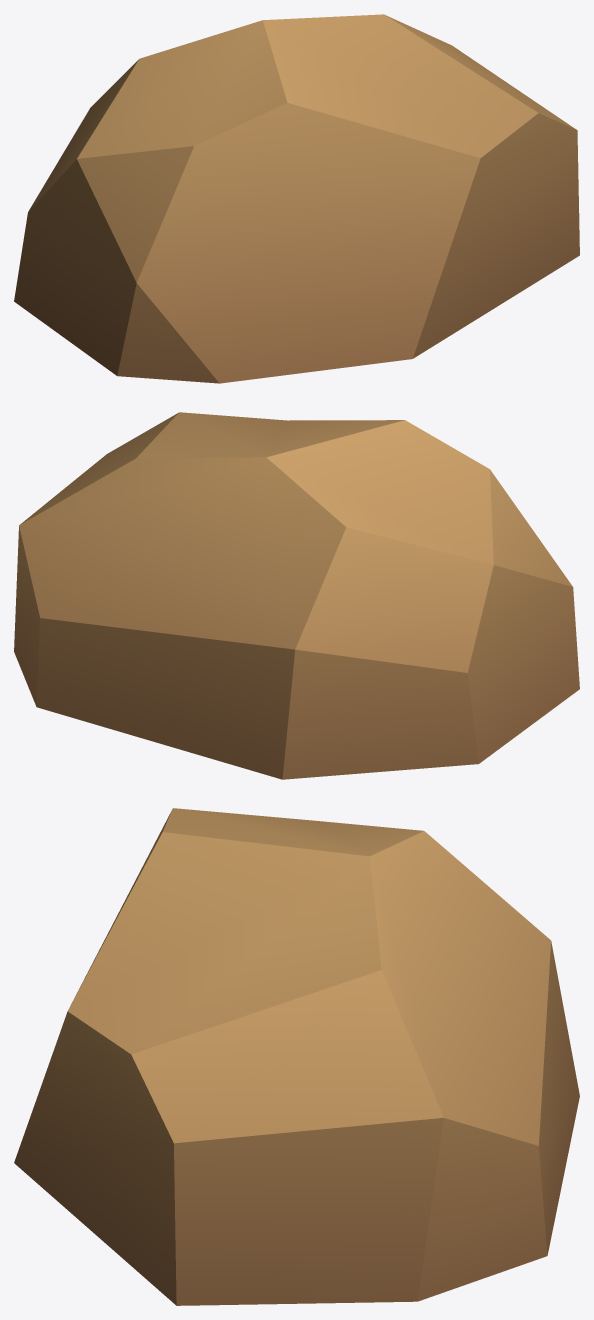
File: desert stone small.fbx
The picture shows the model from 3 angles, top to bottom: view 1: azimuth 30°, elevation 25°; view 2: azimuth 150°, elevation 25°; view 3: azimuth 270°, elevation 25°; orthographic projection. The views are drawn at different scales.
Visible parts, largest first — view 1: desert stone small; view 2: desert stone small; view 3: desert stone small.
Part boxes in pixels (x1=…): desert stone small: x1=14, y1=14, x2=579, y2=383; desert stone small: x1=14, y1=412, x2=579, y2=779; desert stone small: x1=14, y1=808, x2=579, y2=1305.
Bounding box in the file's own units: 156 × 75.13 × 128.
